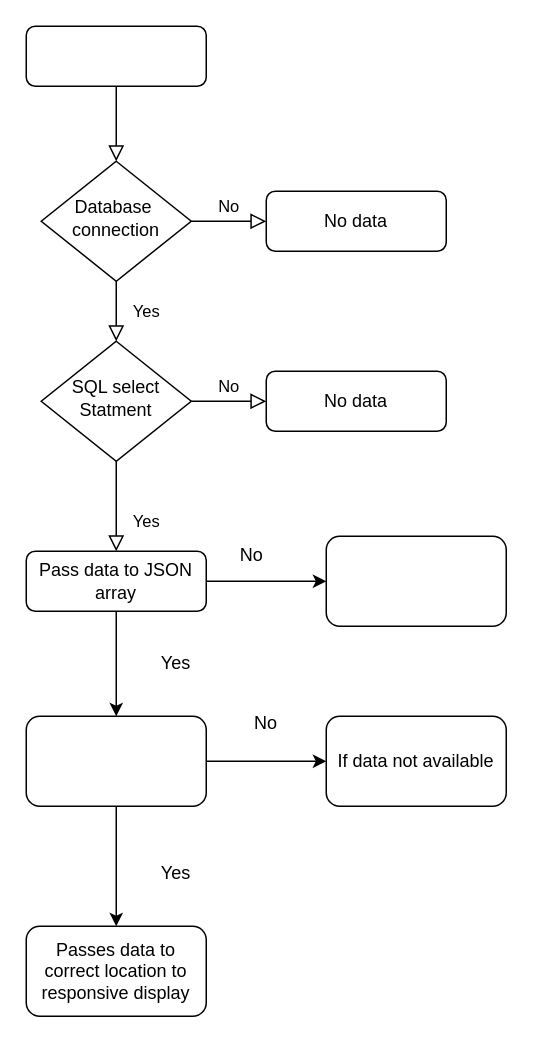
This 533x1043 diagram has some shape labels left out. Here are the shapes that lost their labels. From the top down, the box of each, then its label:
(25, 25, 206, 86): Database
(325, 535, 506, 626): If information isn't available
(25, 715, 206, 806): AJAX gets data from JSON
